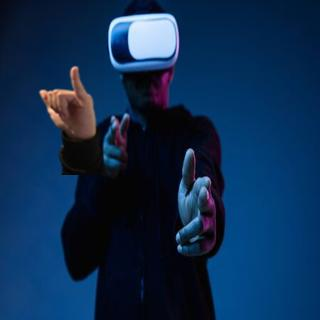HAVE: (30, 61, 98, 139)
